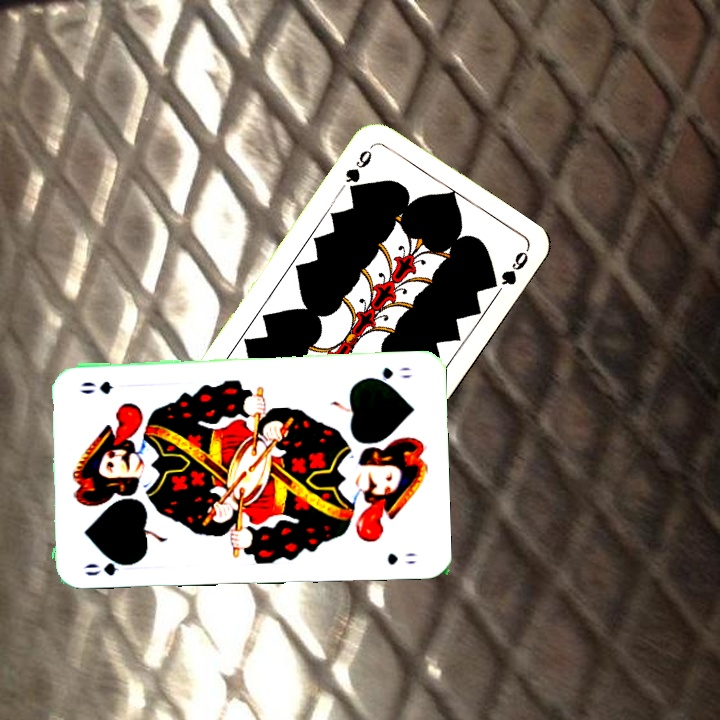G9: (341, 141, 376, 197)
GO: (80, 553, 135, 579), (361, 363, 415, 386)
